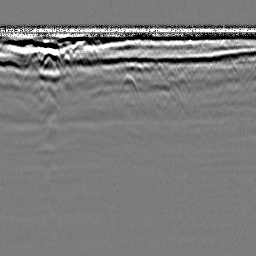cavity: (118, 71, 138, 93)
